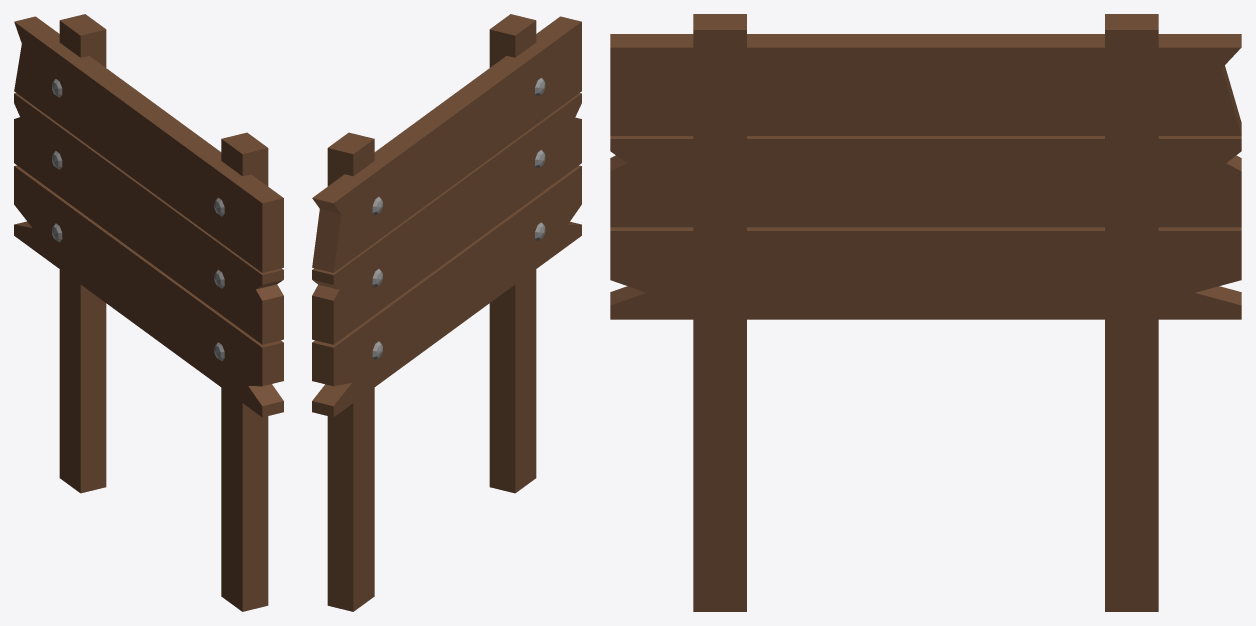
Rendered from WoodSign.fbx.
The picture shows the model from 3 angles, left to right: view 1: azimuth 30°, elevation 25°; view 2: azimuth 150°, elevation 25°; view 3: azimuth 270°, elevation 25°; orthographic projection. The views are drawn at different scales.
Parts seen in each view (by area): view 1: Cube; view 2: Cube; view 3: Cube.
Boxes of the visible parts, left/top/right/bottom form: Cube: left=14, top=14, right=283, bottom=611; Cube: left=312, top=14, right=581, bottom=611; Cube: left=610, top=14, right=1241, bottom=611.
Bounding box in the file's own units: 18.12 × 185 × 182.
